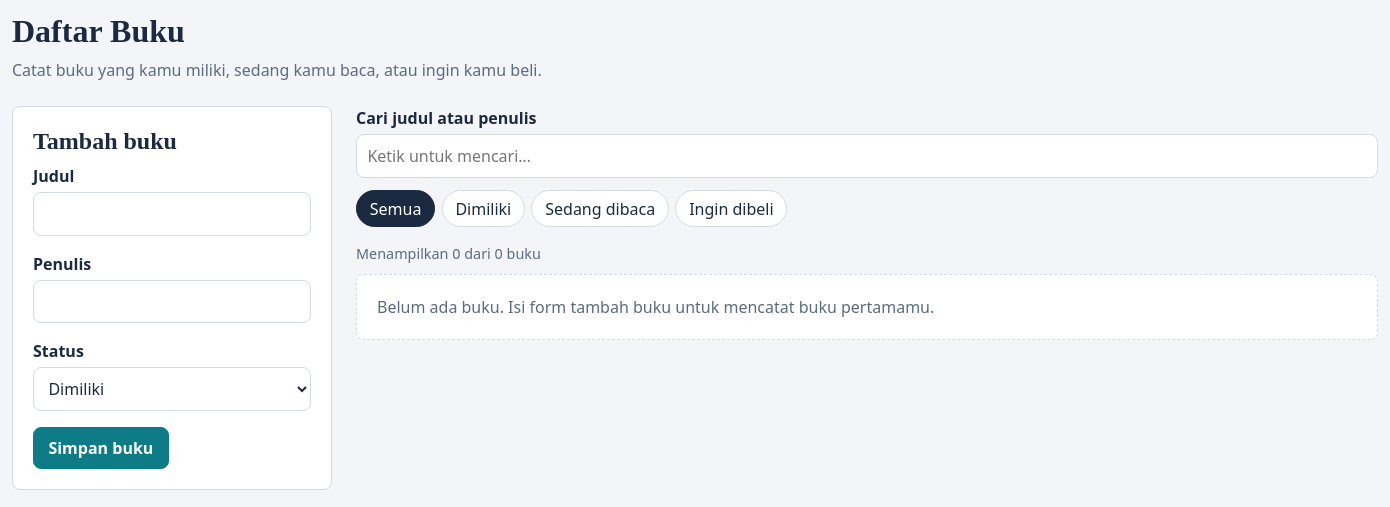
Home (integrasi Context + localStorage) › menambah buku dan menyimpannya ke localStorage
In the field labelled "Judul": [172, 214] box [33, 192, 311, 236], type "Laskar Pelangi"
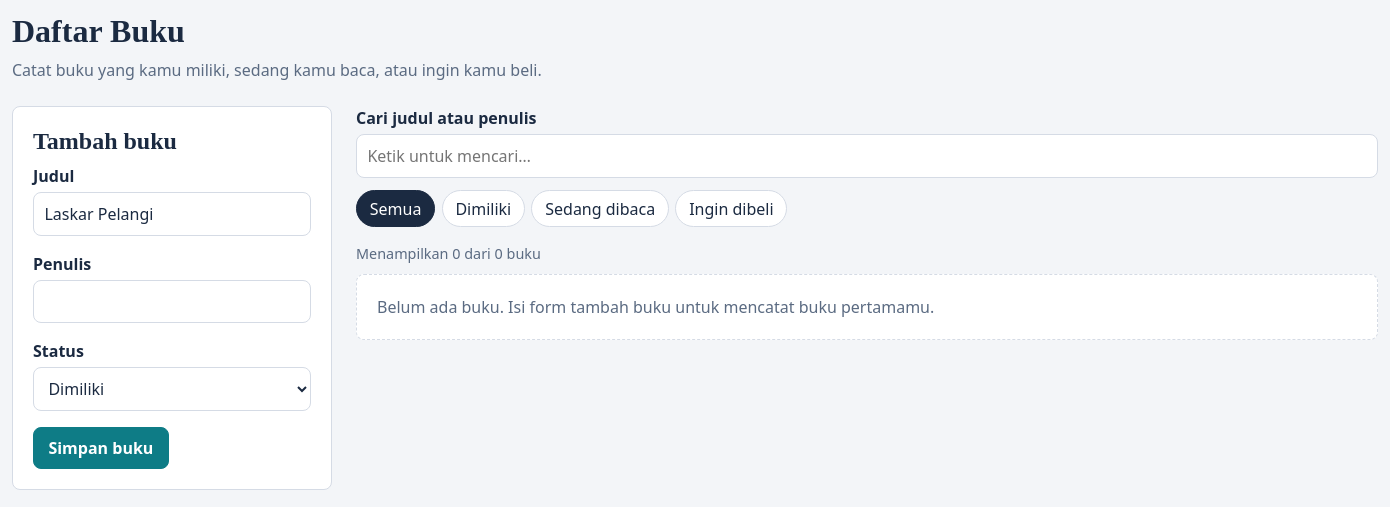
In the field labelled "Penulis": [172, 302] box [33, 280, 311, 323], type "Andrea Hirata"
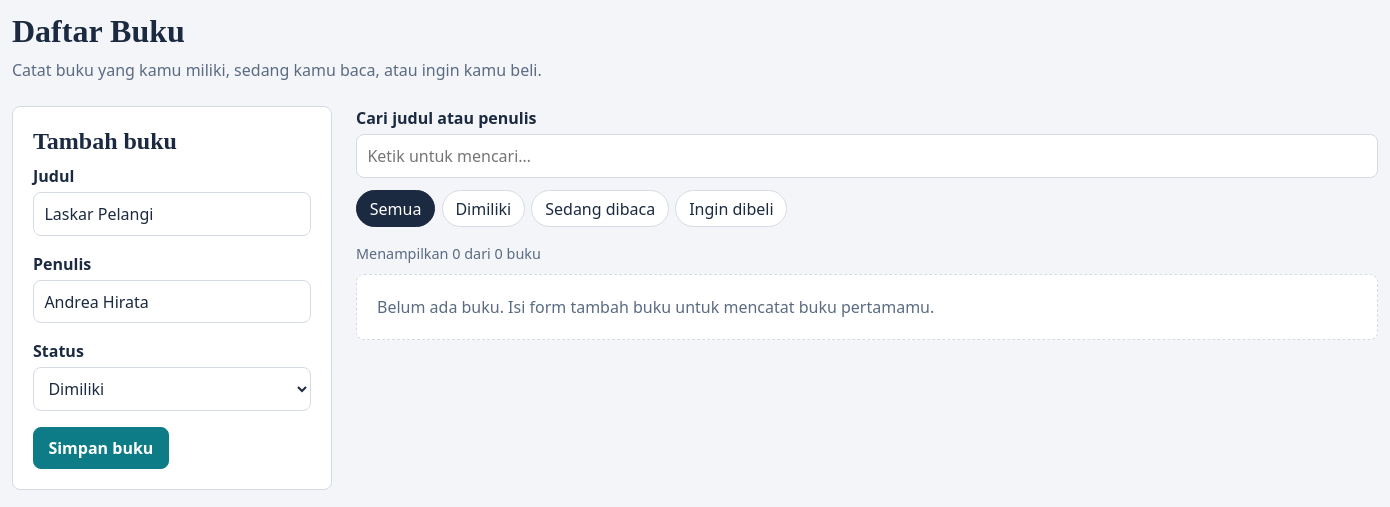
Select "Dimiliki" in the dropdown labelled "Status": [172, 389] box [33, 367, 311, 411]
Click the button "Simpan buku": [101, 448] box [33, 427, 169, 469]
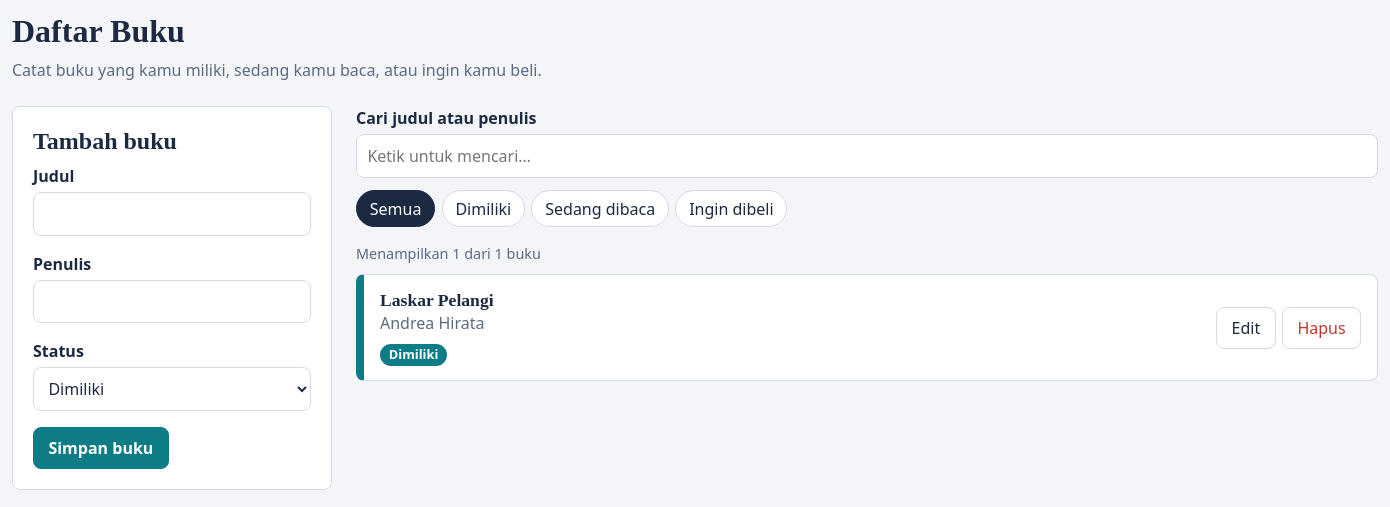
Result: the heading "Laskar Pelangi" is shown at [380, 290, 494, 311]
